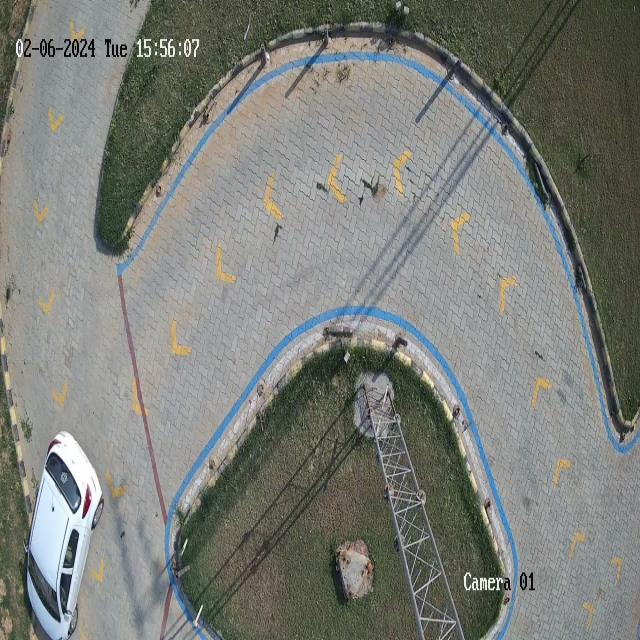car: (26, 431, 104, 638)
